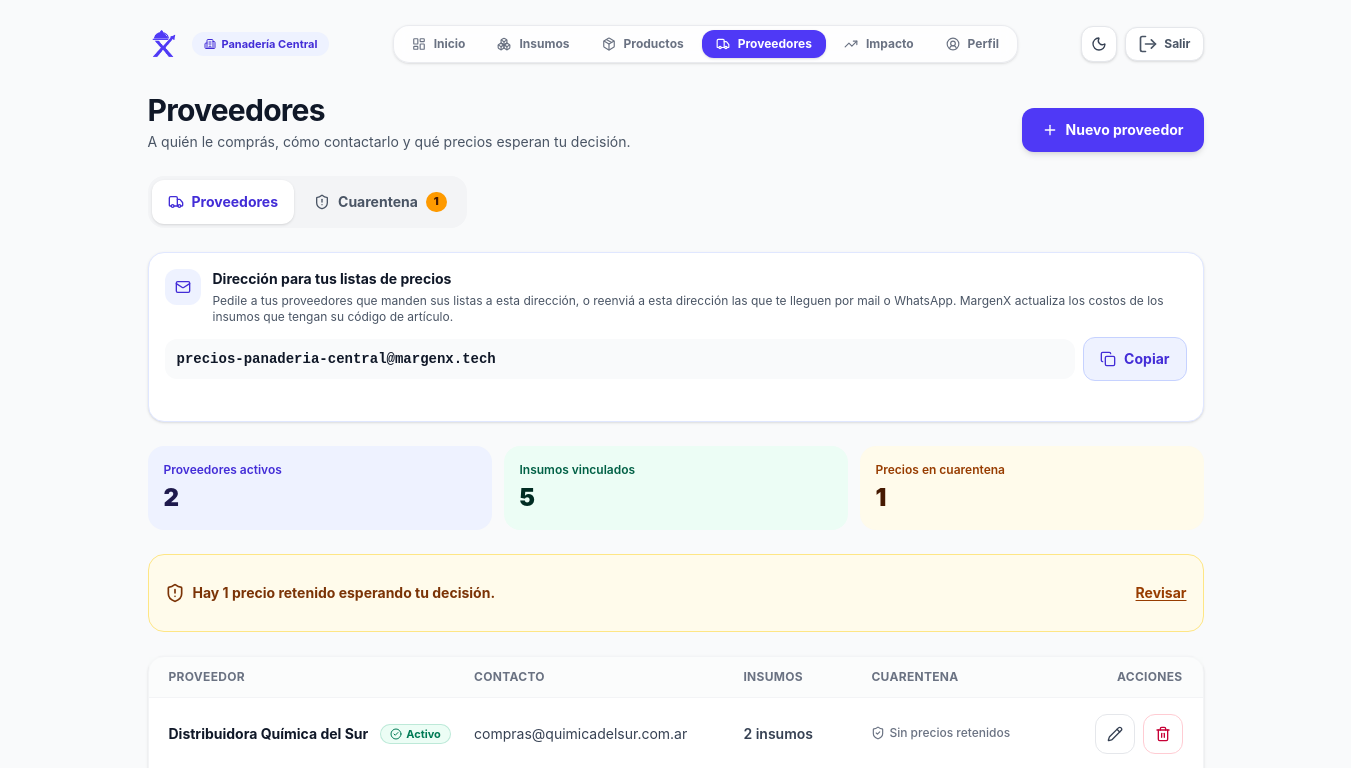
Scenario: SuppliersPageContent › la baja confirmada quita al proveedor de la lista y lo avisa
Click the button named "Dar de baja Distribuidora Química del Sur". click: (1162, 734)
box: [1142,714,1182,754]
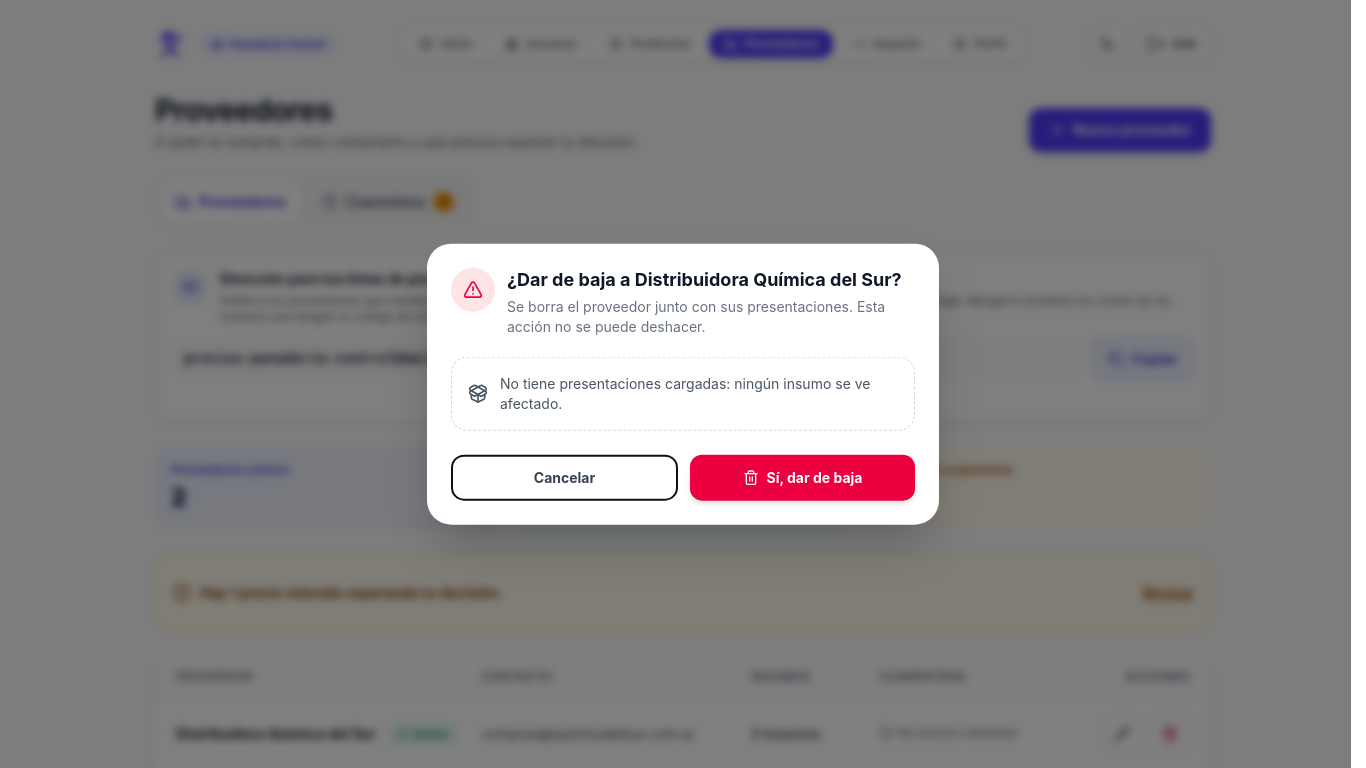
Now the text "No tiene presentaciones cargadas: ningún insumo se ve afectado." is shown, box [500,373,898,413]
Click the button "Sí, dar de baja". click: (802, 477)
box: [690,454,915,500]
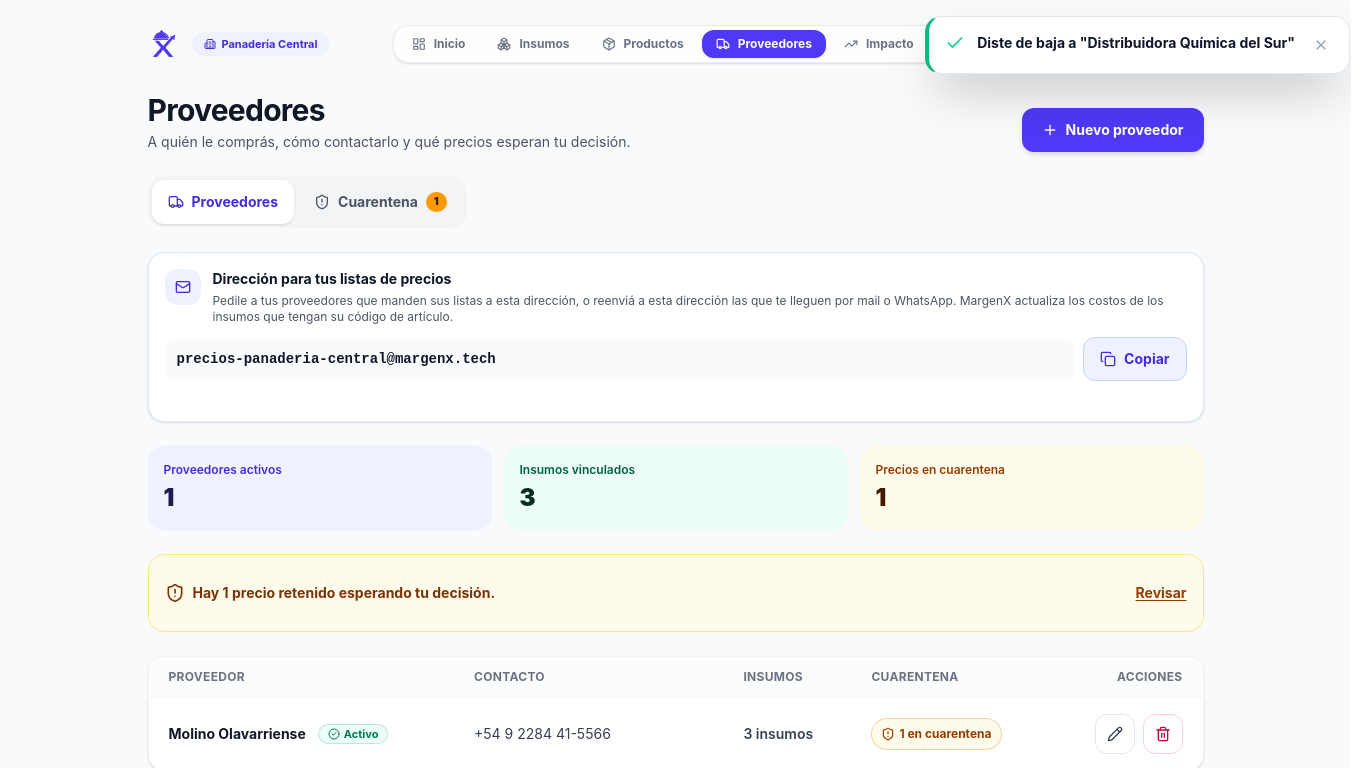
Now the text "Diste de baja a \"Distribuidora Química del Sur\"" is shown, box [977,33,1295,53]
